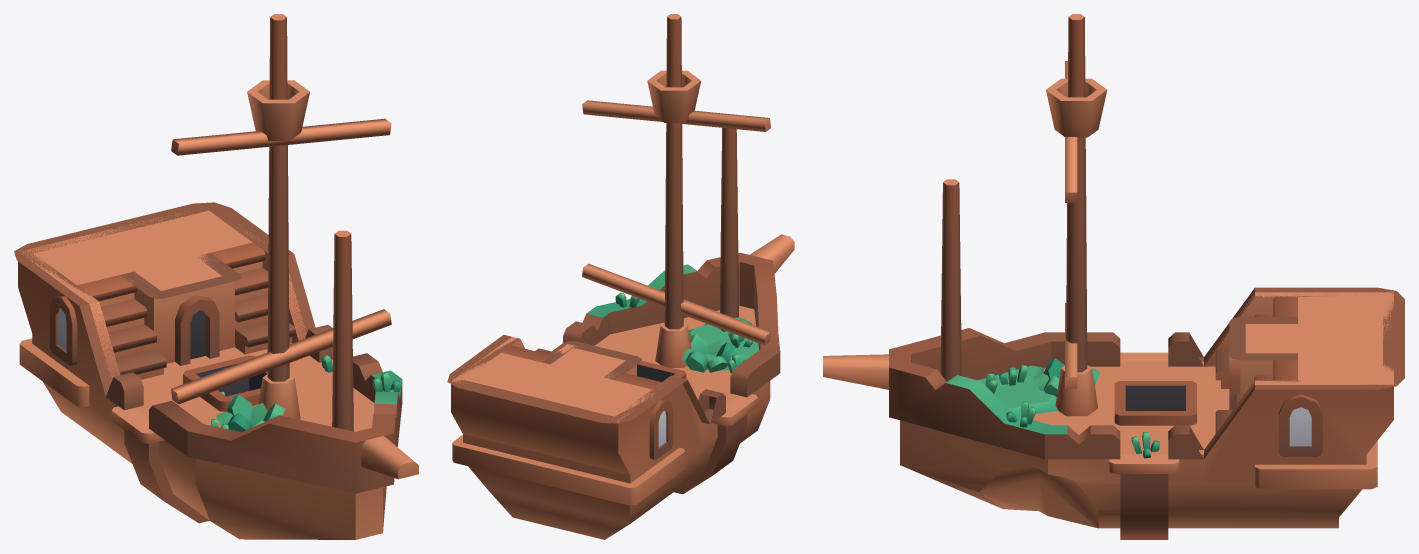
The model's file is ship-wreck-cabined.glb.
The picture shows the model from 3 angles, left to right: view 1: azimuth 30°, elevation 25°; view 2: azimuth 150°, elevation 25°; view 3: azimuth 270°, elevation 25°; orthographic projection. The views are drawn at different scales.
Parts seen in each view (by area): view 1: ship-wreck, sail-a, Group.001; view 2: ship-wreck, sail-a, Group.001, Group; view 3: ship-wreck, Group, sail-a, Group.001.
Boxes of the visible parts, x1=… form: ship-wreck: x1=14, y1=14, x2=418, y2=539; sail-a: x1=171, y1=118, x2=391, y2=404; Group.001: x1=216, y1=394, x2=284, y2=432; ship-wreck: x1=447, y1=14, x2=794, y2=539; sail-a: x1=582, y1=100, x2=771, y2=345; Group.001: x1=682, y1=334, x2=735, y2=372; Group: x1=689, y1=317, x2=758, y2=370; ship-wreck: x1=823, y1=14, x2=1404, y2=539; Group: x1=977, y1=365, x2=1058, y2=416; sail-a: x1=1065, y1=61, x2=1077, y2=388; Group.001: x1=1032, y1=358, x2=1100, y2=396.
Size of the model in its own units: 4.8 by 9.96 by 10.6.
1 material, 1 textured.
